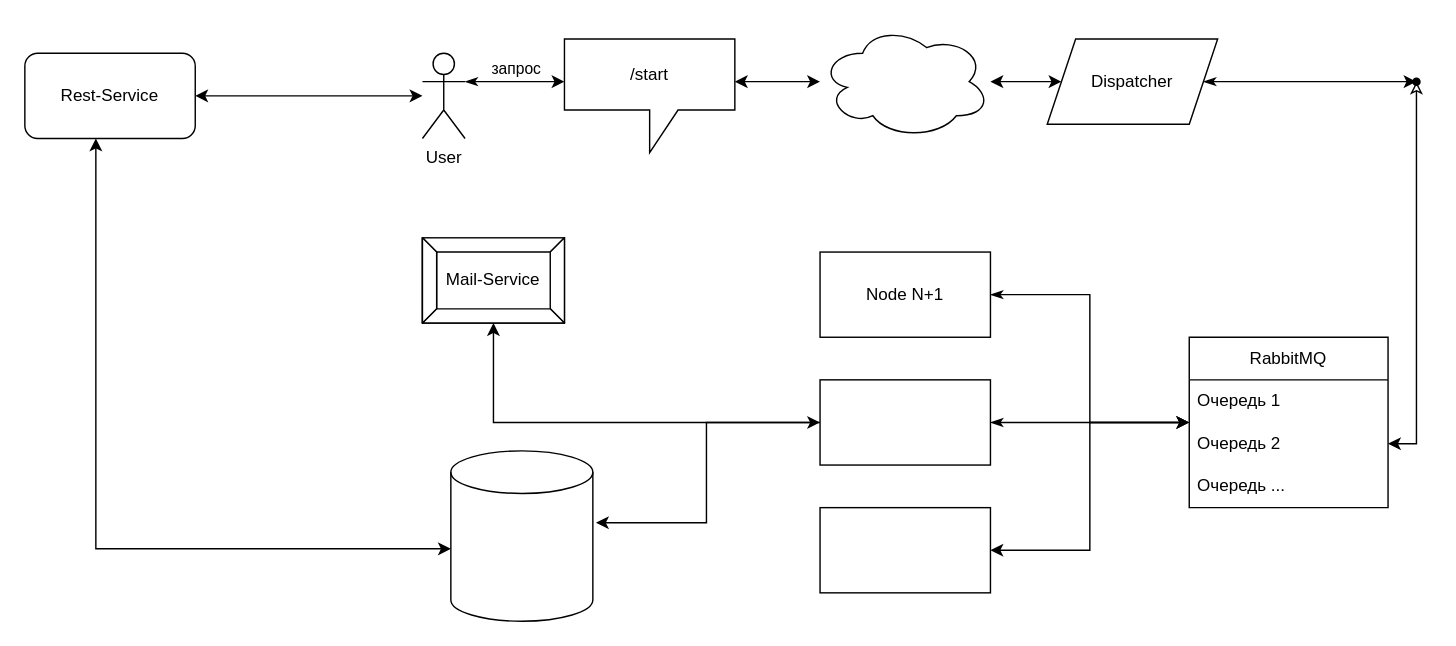
Image size: 1456x646. Some labels were removed from this diagram. Here are the shapes that lost their labels. From the top down, the centre of each, then its label:
At point 904,80: "Telegram API".
At point 904,421: "Node".
At point 521,535: "Postgres".
At point 904,549: "Node N-1".
